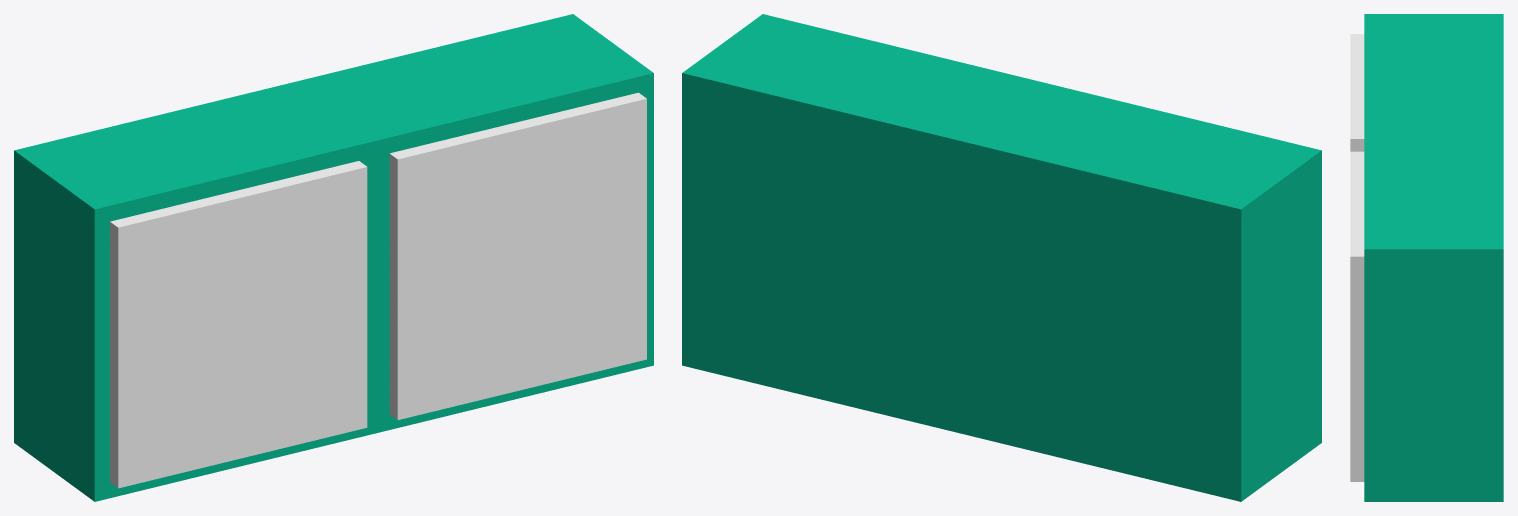
File: cabinet.fbx
3 renders of one model, left to right at view 1: azimuth 30°, elevation 25°; view 2: azimuth 150°, elevation 25°; view 3: azimuth 270°, elevation 25°, orthographic. The views are drawn at different scales.
Parts seen in each view (by area): view 1: cabinet; view 2: cabinet; view 3: cabinet.
Part boxes in pixels (x1=…): cabinet: x1=14, y1=14, x2=653, y2=501; cabinet: x1=682, y1=14, x2=1321, y2=501; cabinet: x1=1350, y1=14, x2=1503, y2=501.
Bounding box in the file's own units: 400 × 200 × 110.
